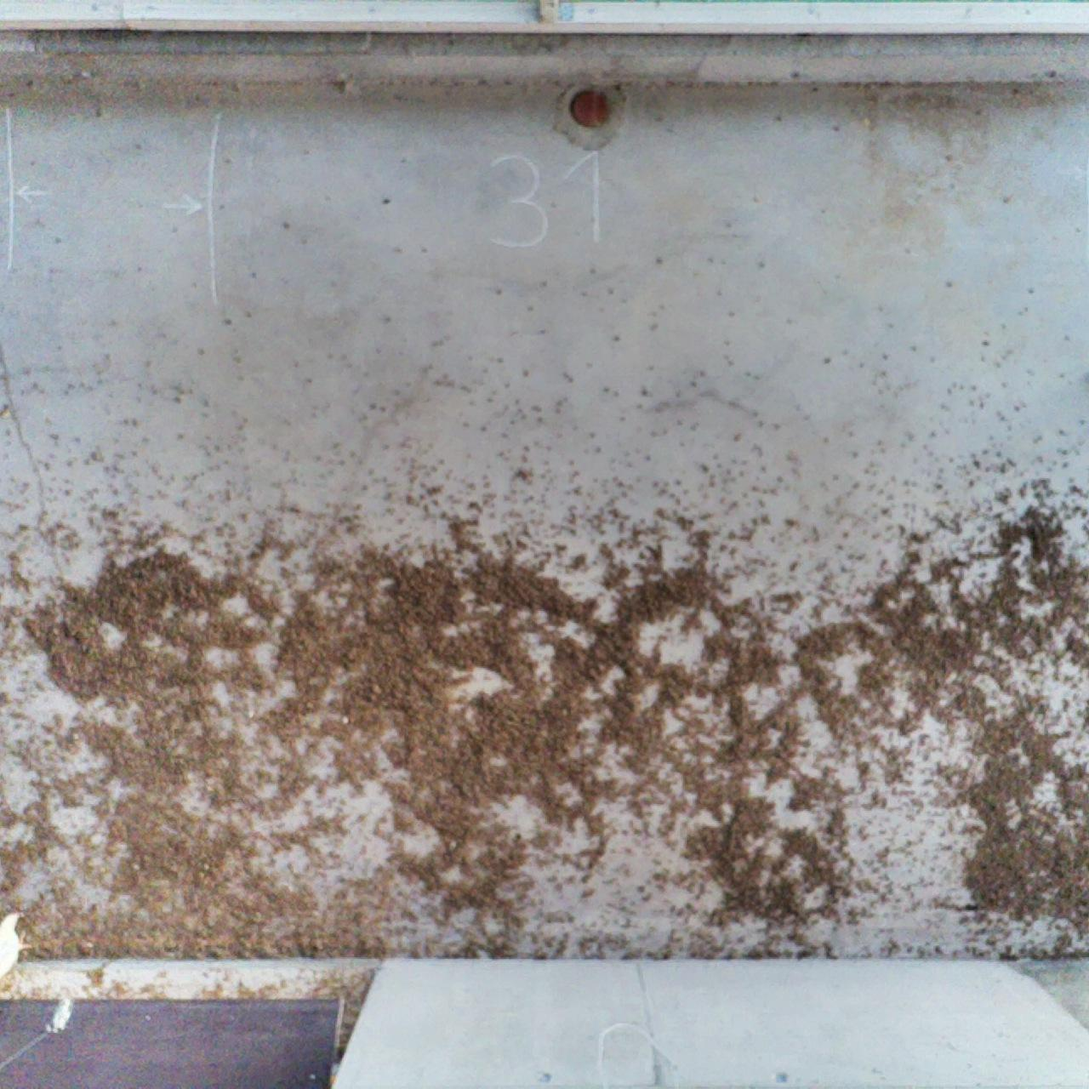chicken: (0, 905, 32, 979)
